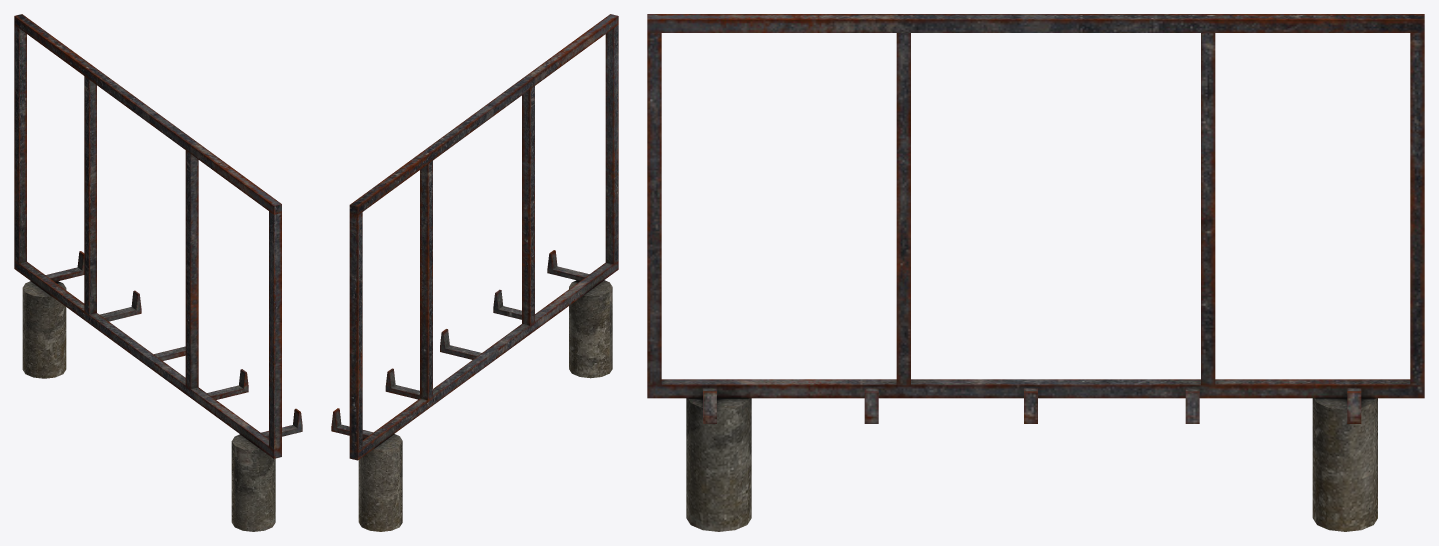
Rendered from HoardingFrame.FBX.
3 renders of one model, left to right at view 1: azimuth 30°, elevation 25°; view 2: azimuth 150°, elevation 25°; view 3: azimuth 270°, elevation 25°, orthographic. The views are drawn at different scales.
Visible parts, largest first — view 1: HoardingFrame; view 2: HoardingFrame; view 3: HoardingFrame.
Boxes of the visible parts, <box> form: HoardingFrame: <box>14,14,302,531</box>; HoardingFrame: <box>331,14,618,531</box>; HoardingFrame: <box>647,14,1424,531</box>.
Bounding box in the file's own units: 47.99 × 245 × 344.
